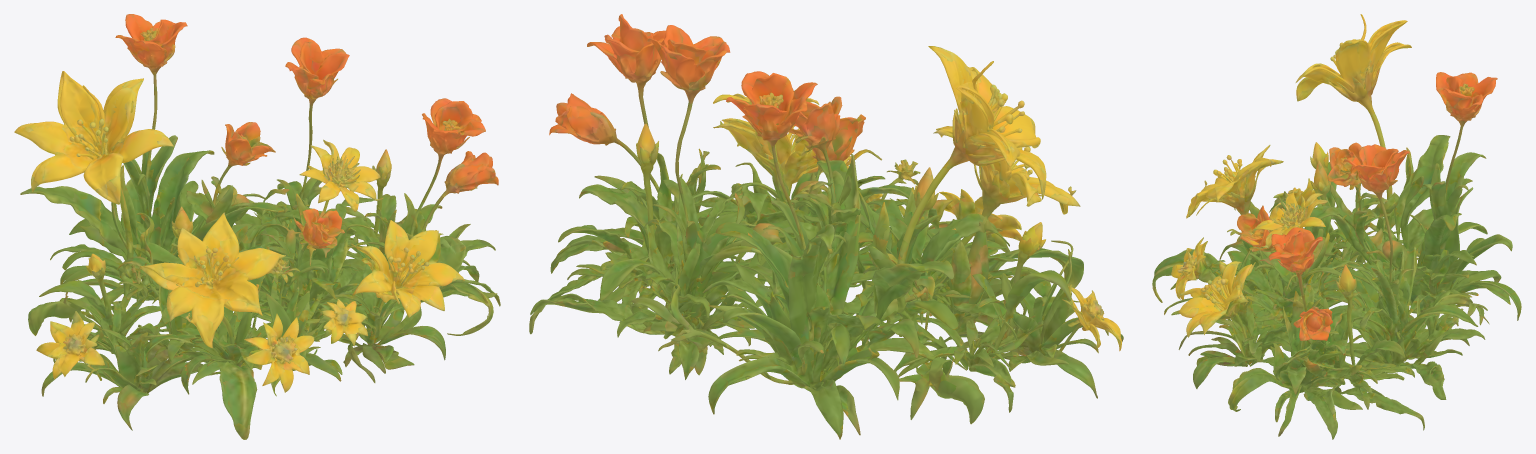
Rendered from Meshy_AI_flower_cluster_c_0823021011_image-to-3d-texture.glb.
The picture shows the model from 3 angles, left to right: view 1: azimuth 30°, elevation 25°; view 2: azimuth 150°, elevation 25°; view 3: azimuth 270°, elevation 25°; orthographic projection. The views are drawn at different scales.
Bounding box in the file's own units: 1.81 × 1.1 × 1.39.
Materials: 1 (1 with a texture image).
